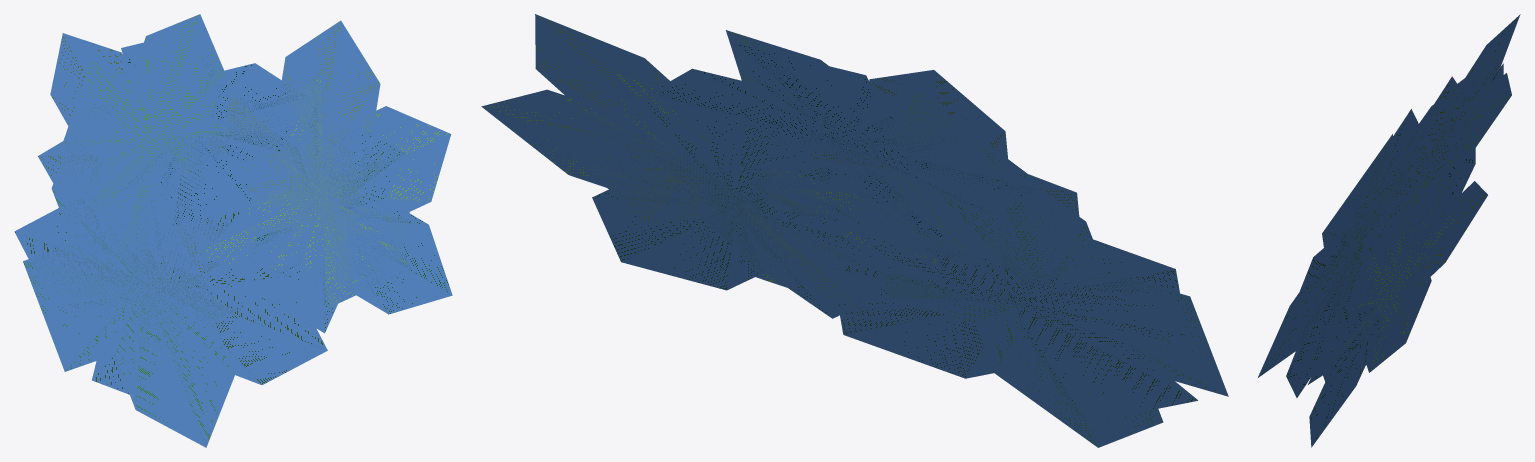
Rendered from SM_RunLeafBurst.fbx.
The picture shows the model from 3 angles, left to right: view 1: azimuth 30°, elevation 25°; view 2: azimuth 150°, elevation 25°; view 3: azimuth 270°, elevation 25°; orthographic projection. The views are drawn at different scales.
Parts seen in each view (by area): view 1: SM_RunLeafBurst; view 2: SM_RunLeafBurst; view 3: SM_RunLeafBurst.
Part boxes in pixels (bbox=[...]): SM_RunLeafBurst: bbox=[14, 14, 452, 447]; SM_RunLeafBurst: bbox=[481, 14, 1228, 447]; SM_RunLeafBurst: bbox=[1258, 14, 1520, 447].
Size of the model in its own units: 23.69 by 11.59 by 17.19.
Materials: 1 (1 with a texture image).
